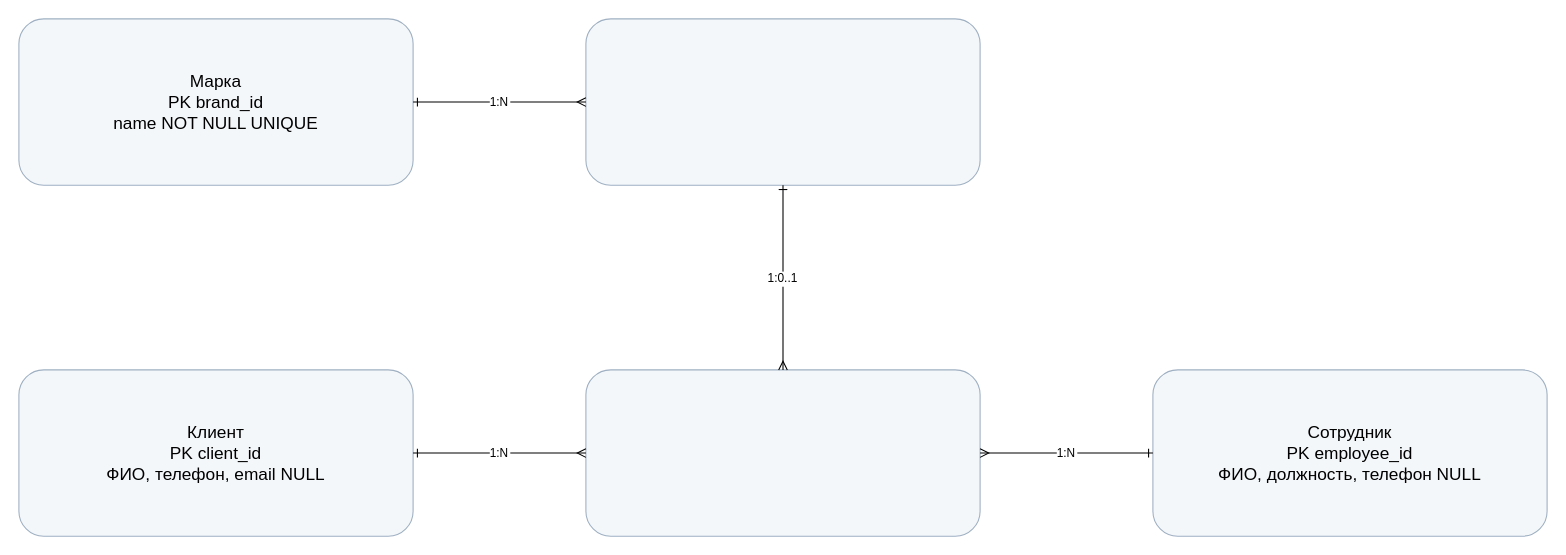
The diagram is 1566 pixels wide and 555 high, and some of its shapes have lost their labels. Here are the shapes that lost their labels. From the top down, the centre of each, then its label:
point (782, 101): Автомобиль PK car_id; FK brand_id VIN, модель, год, цена
point (782, 452): Продажа PK sale_id; FK car_id FK client_id; FK employee_id дата, цена_сделки
